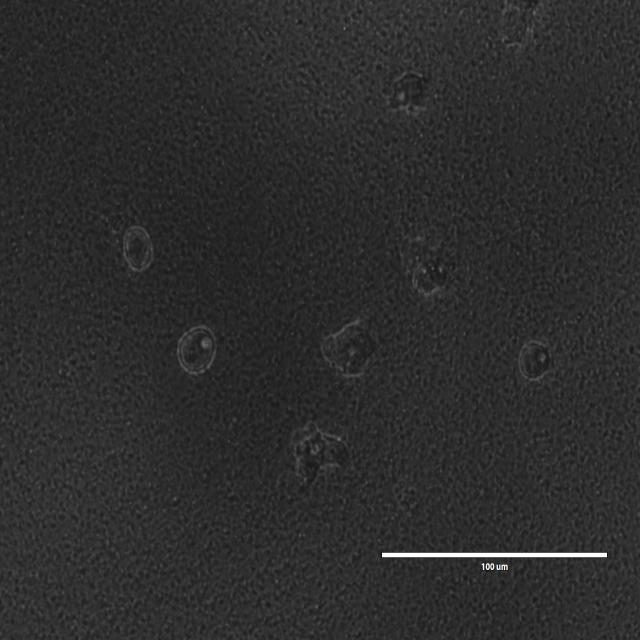Amoeba: (293, 422, 347, 488), (397, 234, 452, 298), (320, 320, 375, 379), (176, 323, 217, 377), (501, 2, 543, 46), (392, 70, 430, 118), (124, 224, 154, 272), (520, 340, 552, 384)
